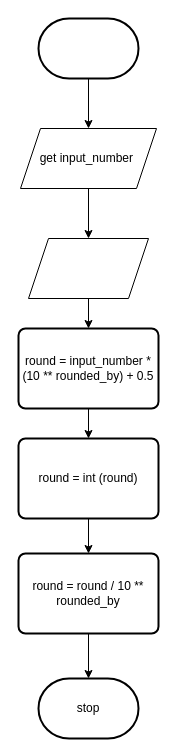
This 176x756 diagram has some shape labels left out. Each missing label, with the centre of its shape:
"get rounded_by" belongs at [88,268].
"start" belongs at [88,48].
